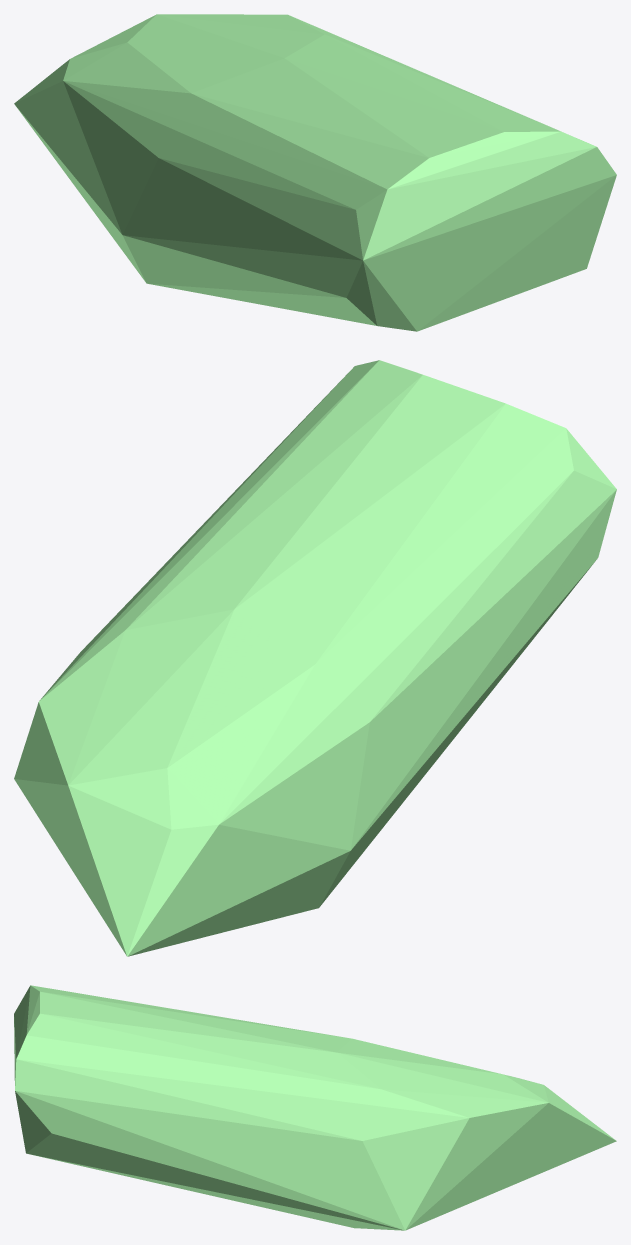
File: dualpanda_Panda_leftArm_link5_respondable_coll_6.dae
The picture shows the model from 3 angles, top to bottom: view 1: azimuth 30°, elevation 25°; view 2: azimuth 150°, elevation 25°; view 3: azimuth 270°, elevation 25°; orthographic projection. The views are drawn at different scales.
Visible parts, largest first — view 1: node; view 2: node; view 3: node.
Part boxes in pixels (x1,y1,x2,y2): node: [14, 14, 616, 331]; node: [14, 360, 616, 956]; node: [14, 985, 616, 1230].
Bounding box in the file's own units: 0.068 × 0.0642 × 0.1617.
